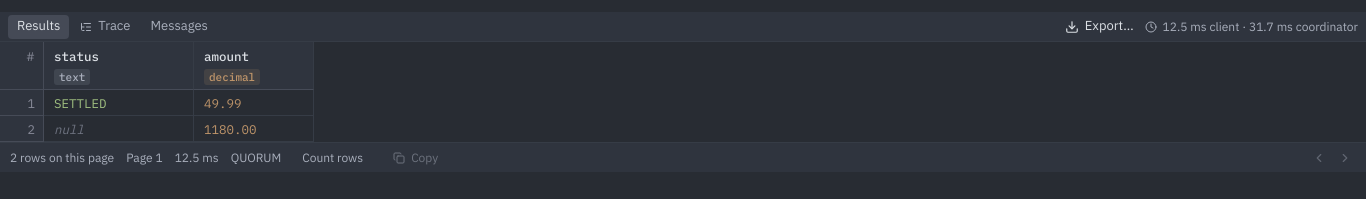
Test case: ResultsPanel › shows the trace tab states and the coordinator time in the footer
This screenshot has width=1366, height=199.
Check: the text "12.5 ms client · 31.7 ms coordinator" is shown, box [1145,18,1358,34]
Click the tab "Trace".
click(105, 26)  # box [71,14,139,38]
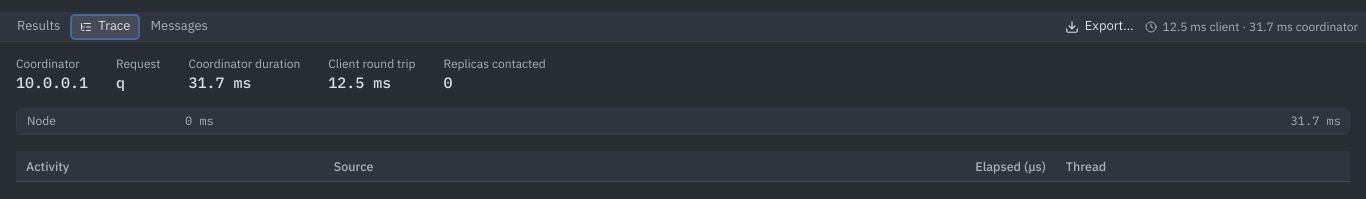
Check: the picture named "Trace waterfall" is shown, box [16,108,1350,135]
